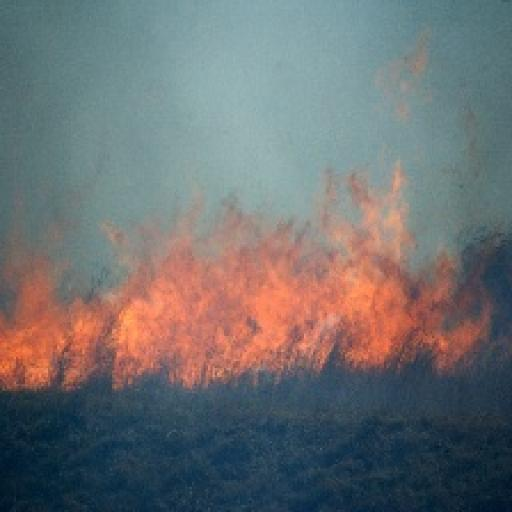fire and smoke: (0, 165, 491, 388)
